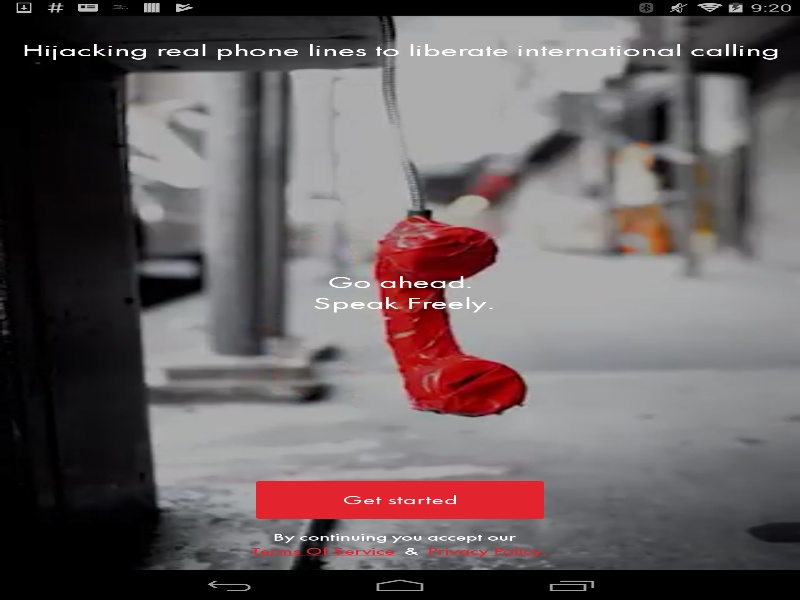Button: (256, 481, 544, 518), (297, 161, 502, 189)
Input: (370, 117, 429, 136)
